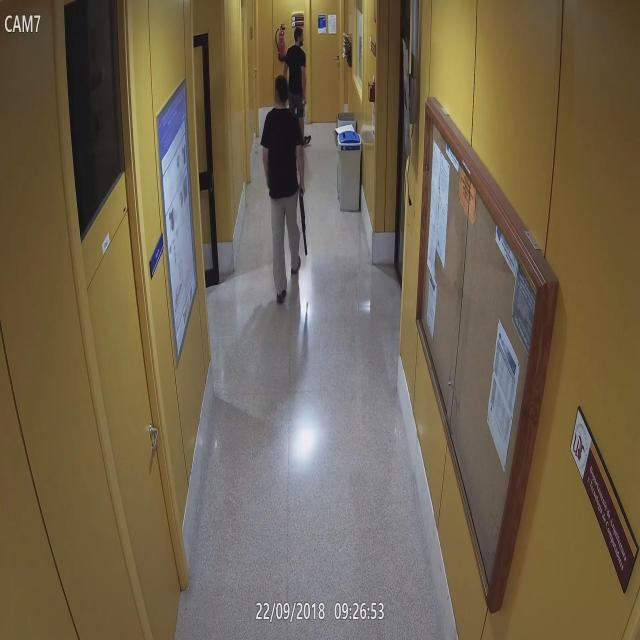pistol: (296, 182, 310, 261), (298, 94, 308, 126)
